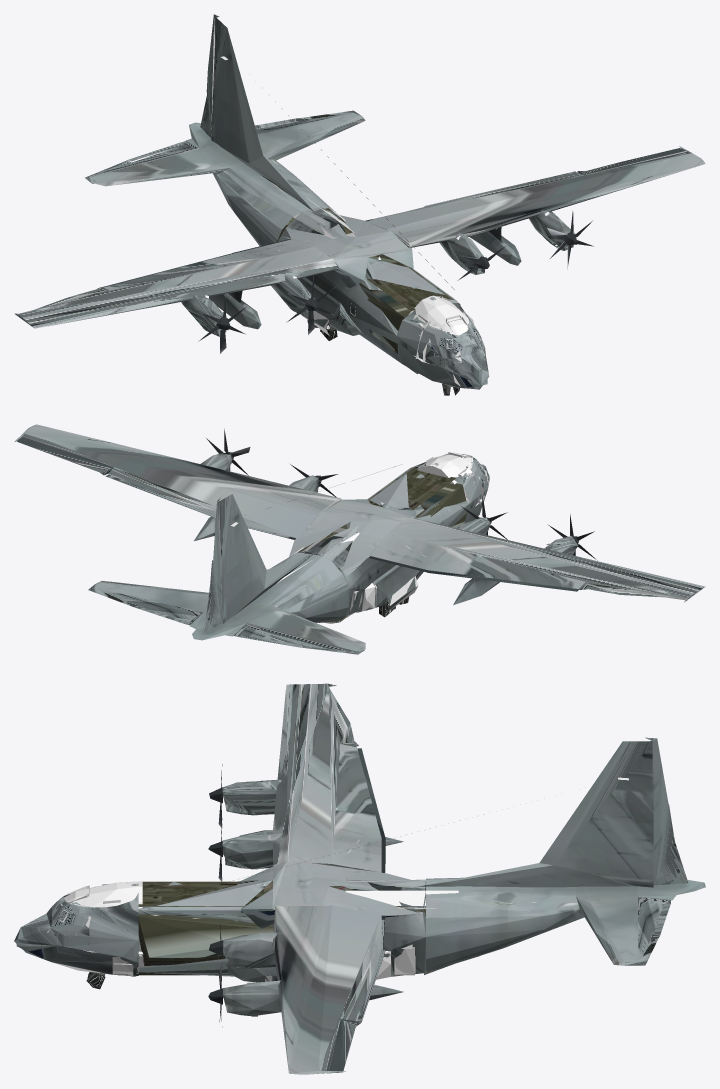
3 renders of one model, top to bottom at view 1: azimuth 30°, elevation 25°; view 2: azimuth 150°, elevation 25°; view 3: azimuth 270°, elevation 25°, orthographic. The views are drawn at different scales.
Parts seen in each view (by area): view 1: model_18_Material.003_0, model_51_Material.007_0, model_20_Material.006_0, model_3_Material.001_0, model_10_Material.002_0, model_52_Material.005_0, model_8_Material_0, model_0__0, model_5_Material.011_0, model_17_Material.008_0, model_62_prop_0; view 2: model_51_Material.007_0, model_20_Material.006_0, model_18_Material.003_0, model_10_Material.002_0, model_3_Material.001_0, model_8_Material_0, model_17_Material.008_0, model_0__0, model_52_Material.005_0, model_5_Material.011_0, model_62_prop_0; view 3: model_10_Material.002_0, model_51_Material.007_0, model_20_Material.006_0, model_18_Material.003_0, model_3_Material.001_0, model_52_Material.005_0, model_5_Material.011_0, model_8_Material_0, model_0__0, model_17_Material.008_0, model_62_prop_0.
Part boxes in pixels (x1,y1,x2,y2): model_18_Material.003_0: (89,113,365,246); model_51_Material.007_0: (14,148,686,328); model_20_Material.006_0: (35,146,705,309); model_3_Material.001_0: (282,215,489,389); model_10_Material.002_0: (200,14,556,335); model_52_Material.005_0: (181,172,581,336); model_8_Material_0: (277,207,456,363); model_0__0: (17,18,686,388); model_5_Material.011_0: (277,208,460,353); model_17_Material.008_0: (85,110,575,288); model_62_prop_0: (198,210,594,353); model_51_Material.007_0: (17,436,705,602); model_20_Material.006_0: (14,424,680,598); model_18_Material.003_0: (94,552,365,651); model_10_Material.002_0: (204,494,423,632); model_3_Material.001_0: (289,454,489,622); model_8_Material_0: (298,468,469,616); model_17_Material.008_0: (88,475,580,654); model_0__0: (22,435,687,651); model_52_Material.005_0: (107,453,578,605); model_5_Material.011_0: (297,467,467,622); model_62_prop_0: (206,428,597,560); model_10_Material.002_0: (227,737,688,1016); model_51_Material.007_0: (272,683,381,1071); model_20_Material.006_0: (273,689,381,1074); model_18_Material.003_0: (426,877,705,971); model_3_Material.001_0: (14,861,496,976); model_52_Material.005_0: (222,745,403,1016); model_5_Material.011_0: (138,880,452,975); model_8_Material_0: (138,879,425,976); model_0__0: (47,684,628,1070); model_17_Material.008_0: (354,748,670,1022); model_62_prop_0: (208,764,222,1027).
Size of the model in its own units: 796 by 237 by 596.
14 materials, 13 textured.
